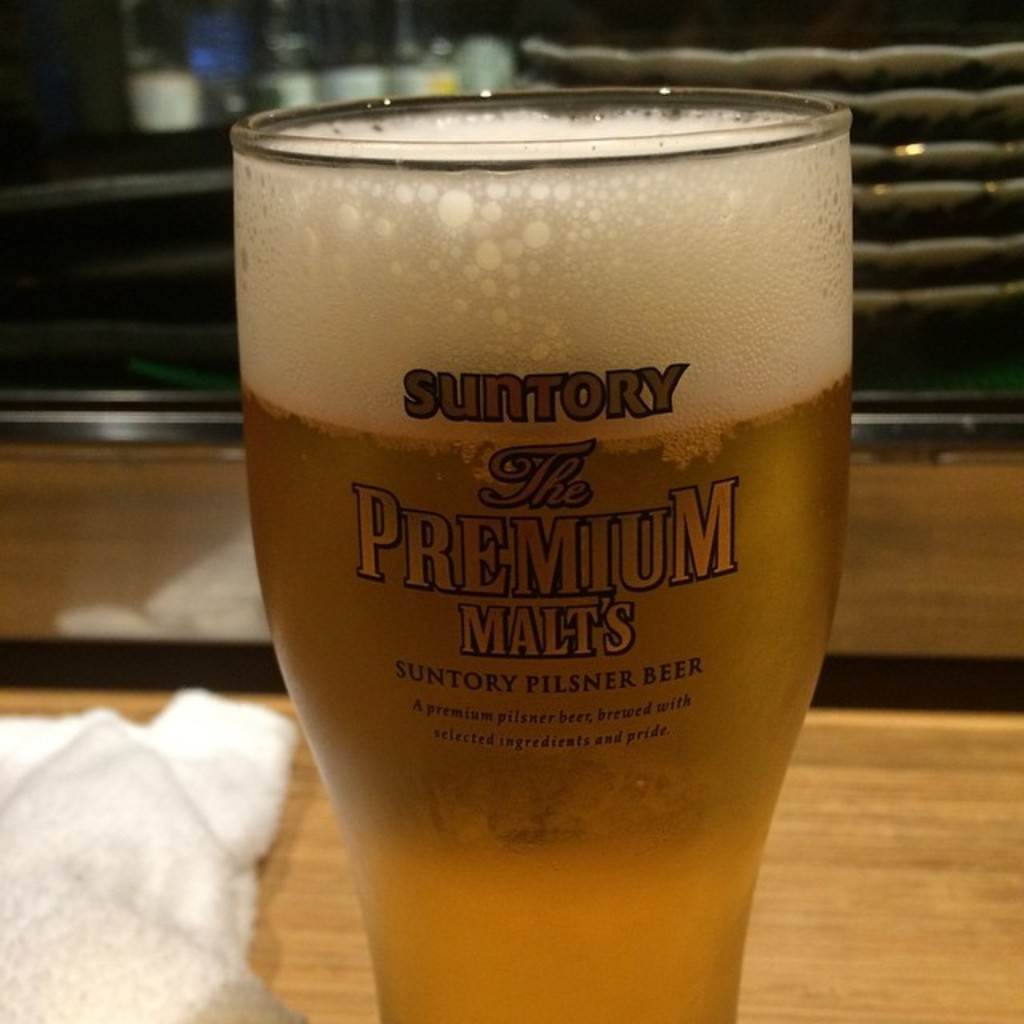Beer: (235, 107, 852, 1022)
